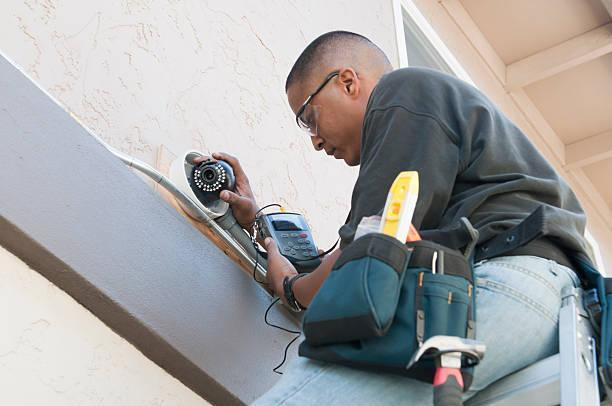camera: (173, 138, 240, 224)
